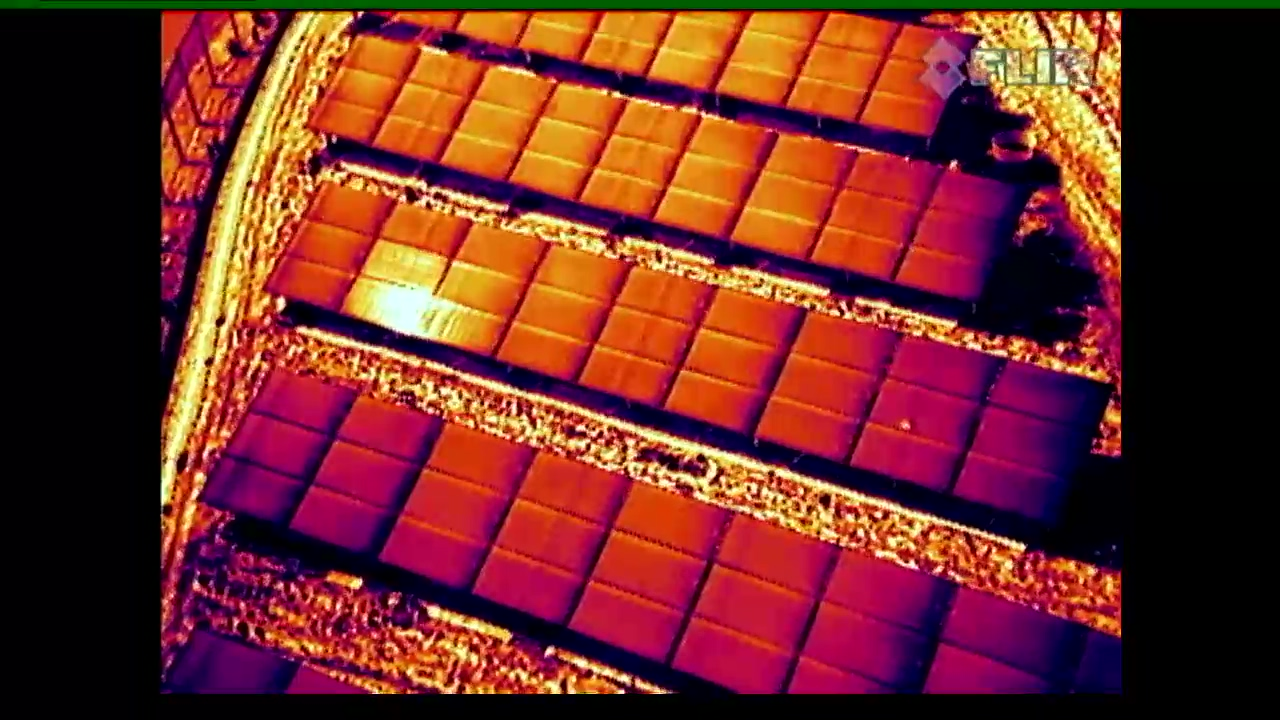hotspot: (848, 337, 1001, 493)
